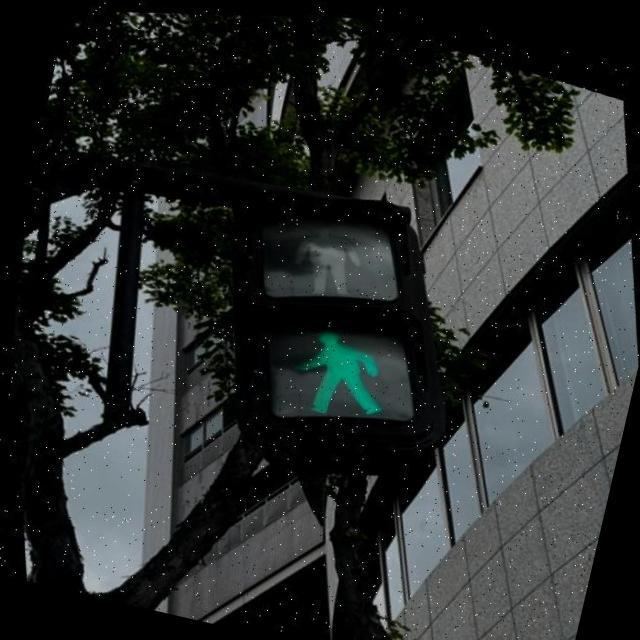greenlight: (233, 189, 443, 450)
